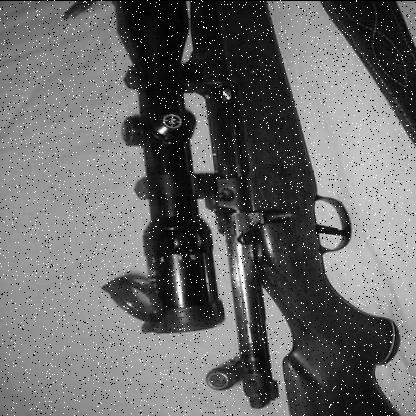rifle: (96, 1, 405, 416)
